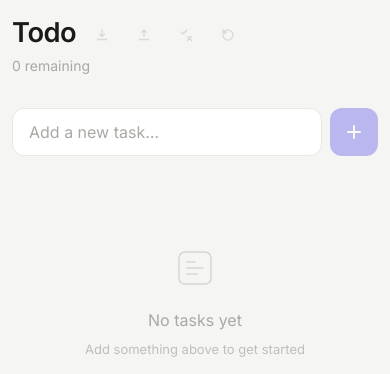
Test: TodoApp › saves new name on Enter key
Click the heading with class "title". click: (44, 32)
box: x1=12 y1=16 x2=76 y2=49
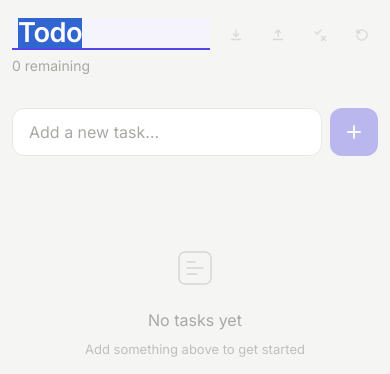
Replace the text in the field with class "title-input" with "My Tasks". click: (111, 33)
box: x1=12 y1=18 x2=210 y2=48
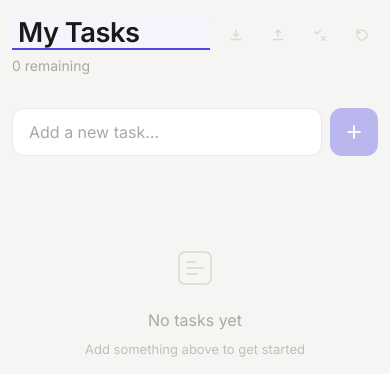
Press Enter in the field with class "title-input", box x1=12 y1=18 x2=210 y2=48
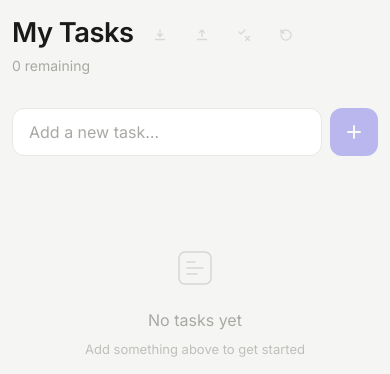
Expected: the heading with class "title" reads "My Tasks", x1=12 y1=16 x2=134 y2=49
